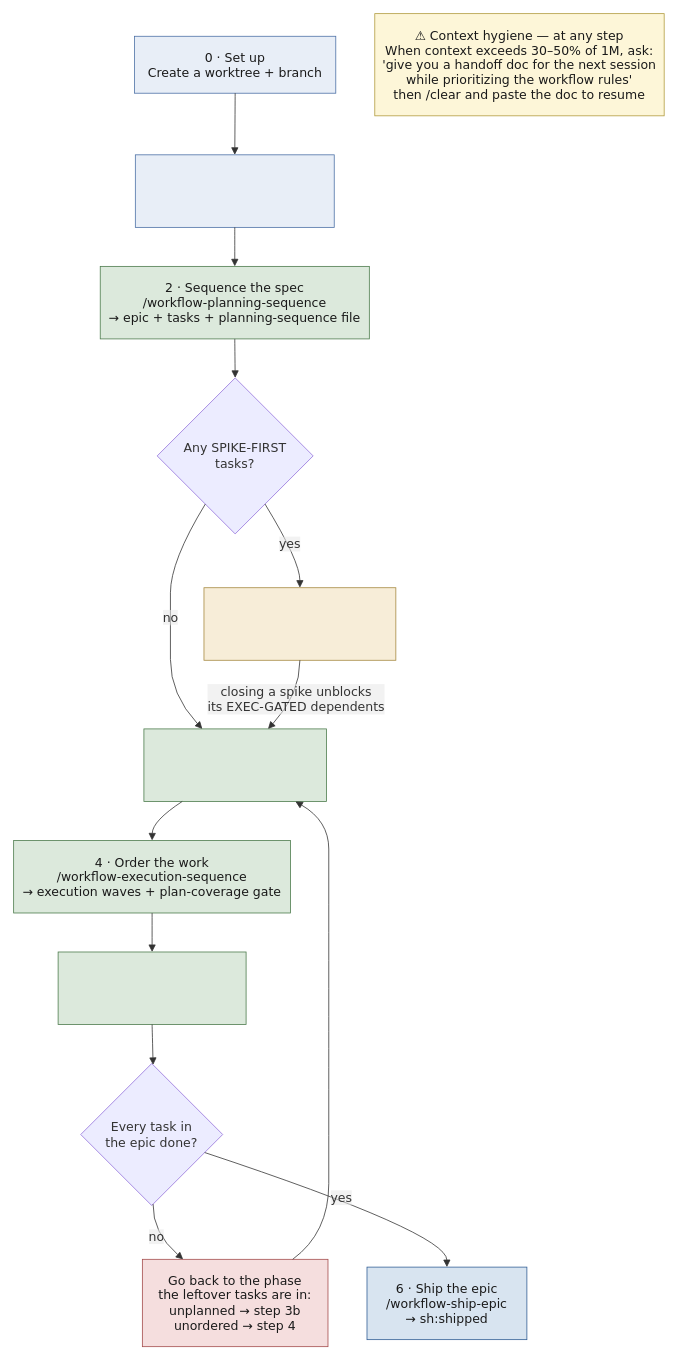
The diagram is 678 pixels wide and 1360 high, and some of its shapes have lost their labels. Here are the shapes that lost their labels. From the top down, the centre of each, then its label:
At [234,190]: "1 · Spec superpowers:brainstorming → design document".
At [299,623]: "3a · Resolve unknowns /workflow-execute-spikes → findings, spike closed".
At [234,764]: "3b · Write the plans /workflow-writing-plans → wp:approved".
At [151,988]: "5 · Build it /workflow-execute-plans → ex:done per task".
